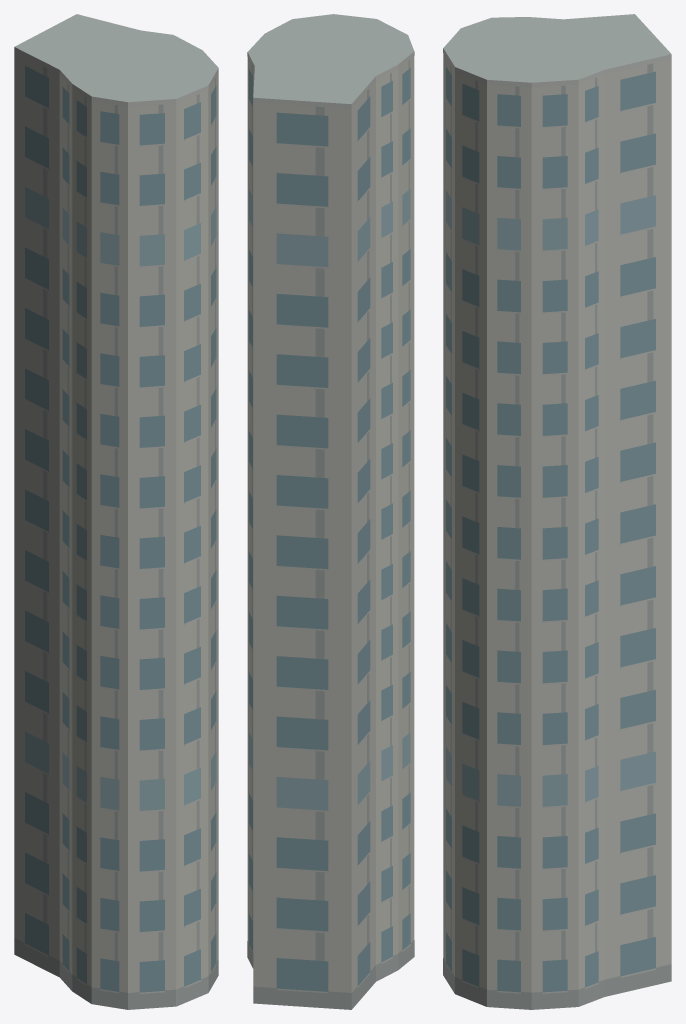
File: survey-upis-32912083.glb
3 views of the same model, side by side, from view 1: azimuth 30°, elevation 25°; view 2: azimuth 150°, elevation 25°; view 3: azimuth 270°, elevation 25° (orthographic). The views are drawn at different scales.
Visible parts, largest first — view 1: survey-upis-32912083.tmp; view 2: survey-upis-32912083.tmp; view 3: survey-upis-32912083.tmp.
Part boxes in pixels (<box>): survey-upis-32912083.tmp: <box>14,14,218,1009</box>; survey-upis-32912083.tmp: <box>247,14,414,1009</box>; survey-upis-32912083.tmp: <box>443,14,671,1009</box>.
Size of the model in its own units: 7.28 by 45.75 by 10.23.
